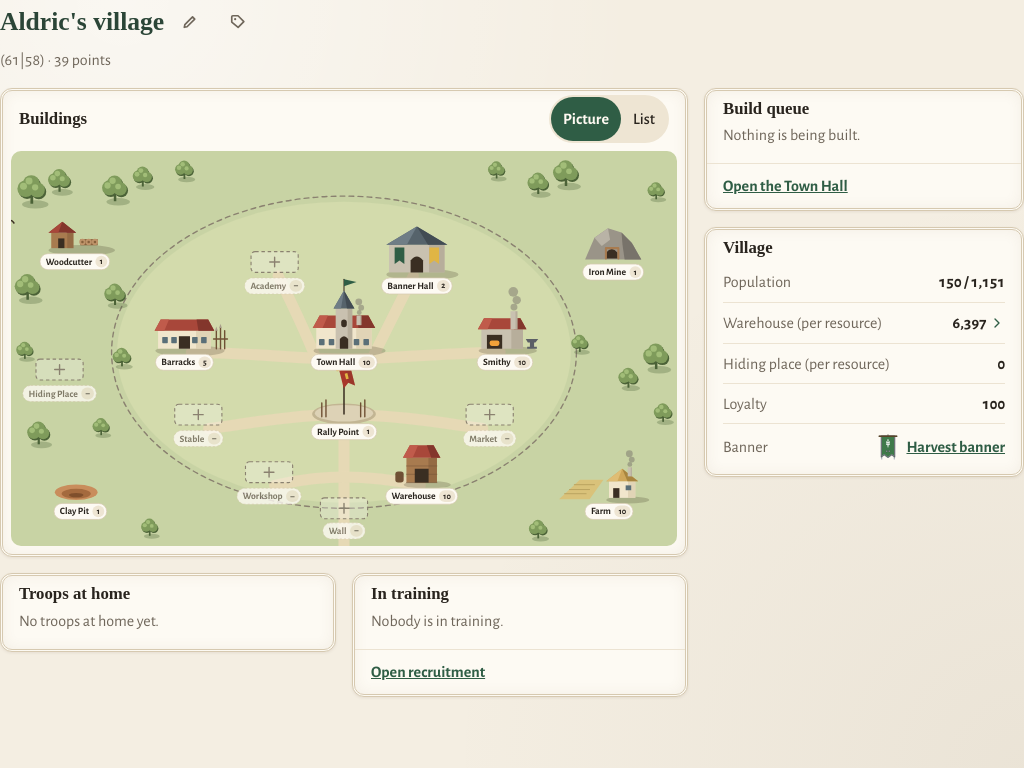
it: VillagePage › lists every building with its level when the list is chosen, and remembers the choice
The image size is (1024, 768).
Click the button "List".
click(644, 119)  # box x1=621 y1=97 x2=667 y2=141
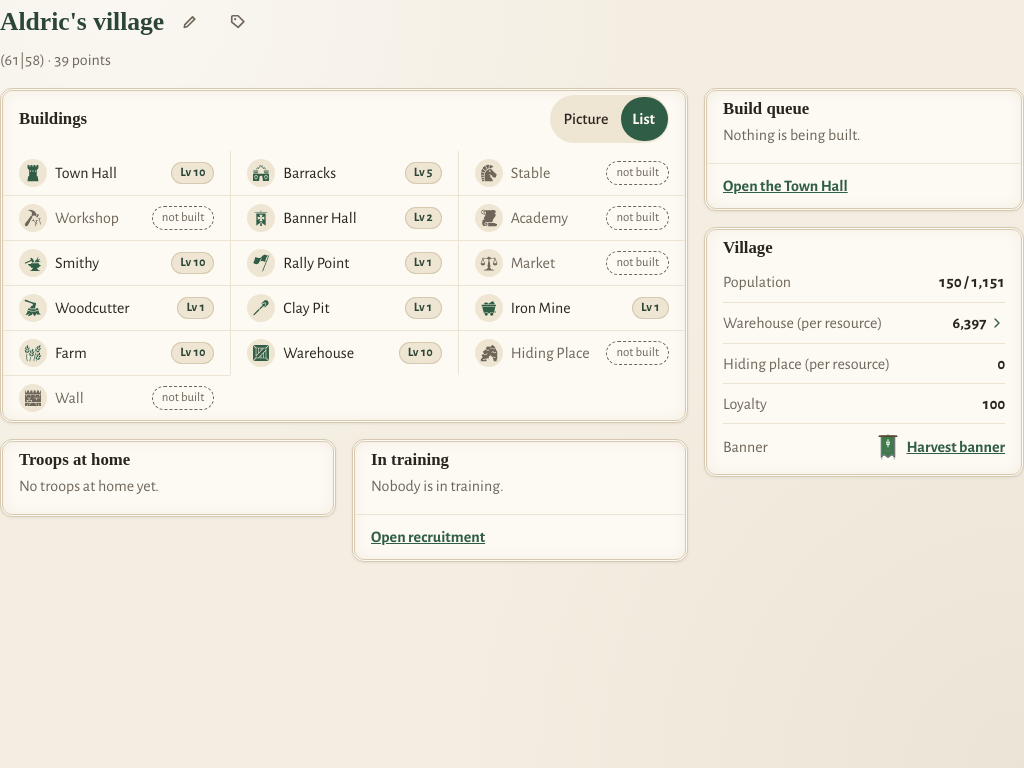
Now the link named "Stablenot built" is shown, box x1=459 y1=151 x2=685 y2=195
Now the number of links "Town Hall Lv 10" is 16
